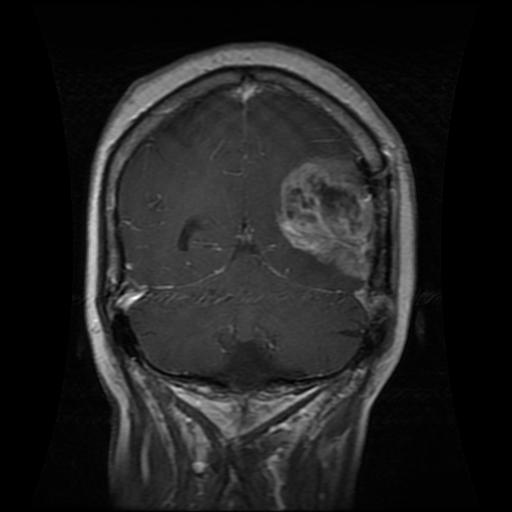Gliomia_tumour: (274, 154, 376, 281)
